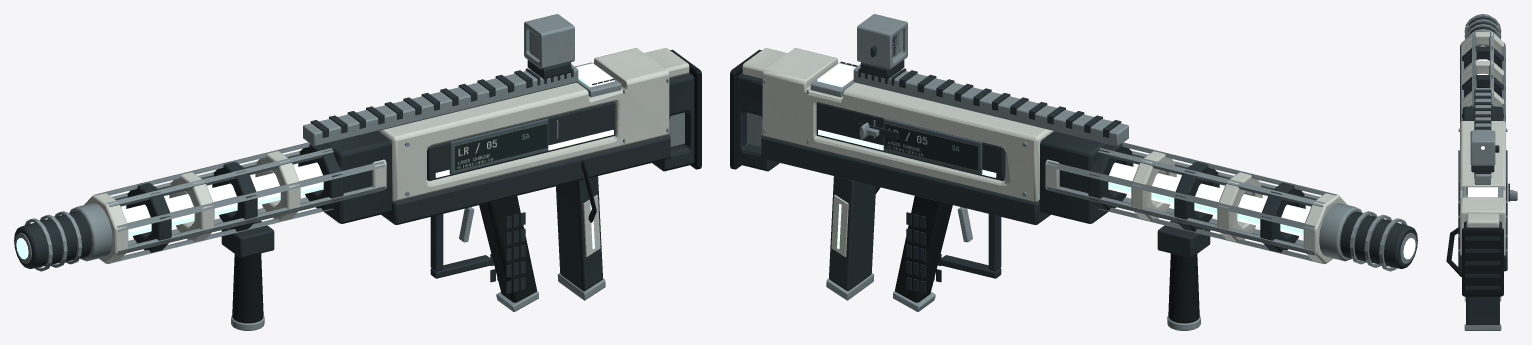
Rendered from rifle-laser.glb.
3 renders of one model, left to right at view 1: azimuth 30°, elevation 25°; view 2: azimuth 150°, elevation 25°; view 3: azimuth 270°, elevation 25°, orthographic. The views are drawn at different scales.
Parts seen in each view (by area): view 1: rifle-laser_HandheldFinish, rifle-laser_Mint; view 2: rifle-laser_HandheldFinish, rifle-laser_Mint; view 3: rifle-laser_HandheldFinish, rifle-laser_Mint.
Part boxes in pixels (bbox=[...]): rifle-laser_HandheldFinish: bbox=[14, 14, 701, 330]; rifle-laser_Mint: bbox=[16, 63, 614, 259]; rifle-laser_HandheldFinish: bbox=[730, 14, 1417, 330]; rifle-laser_Mint: bbox=[817, 63, 1415, 259]; rifle-laser_HandheldFinish: bbox=[1446, 14, 1517, 330]; rifle-laser_Mint: bbox=[1463, 45, 1501, 297].
Size of the model in its own units: 0.7734 by 0.3031 by 0.1048.
3 materials, 1 textured.
